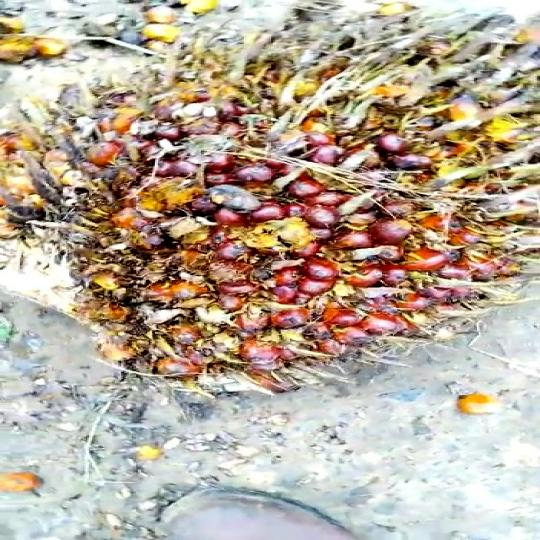masak: (0, 0, 540, 392)
